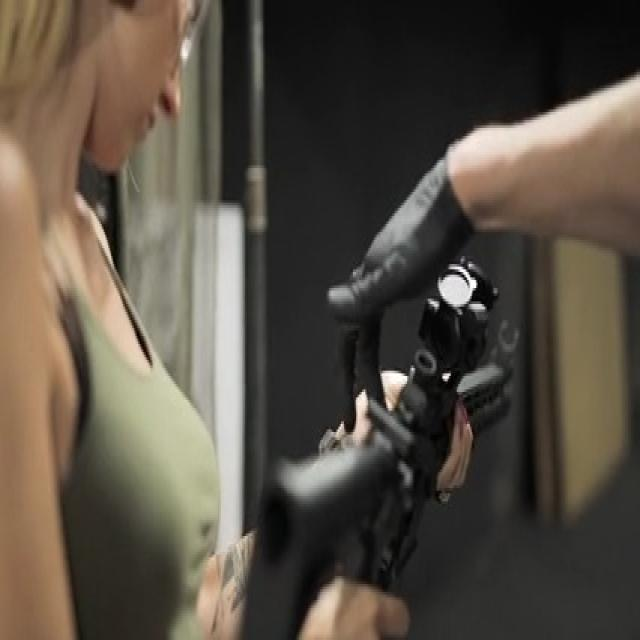Gun_Holder: (222, 264, 614, 640)
Person: (1, 0, 418, 640)
